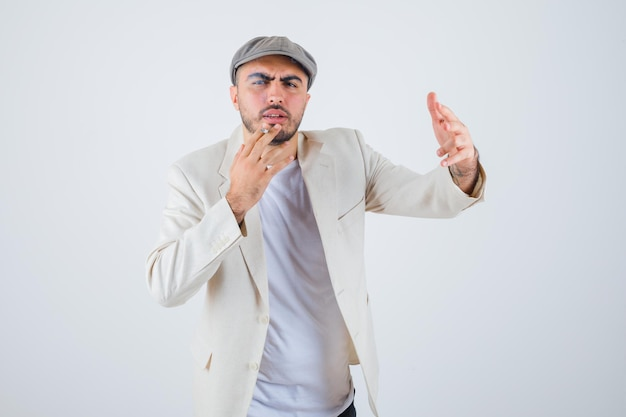cigarette: (259, 127, 271, 135)
